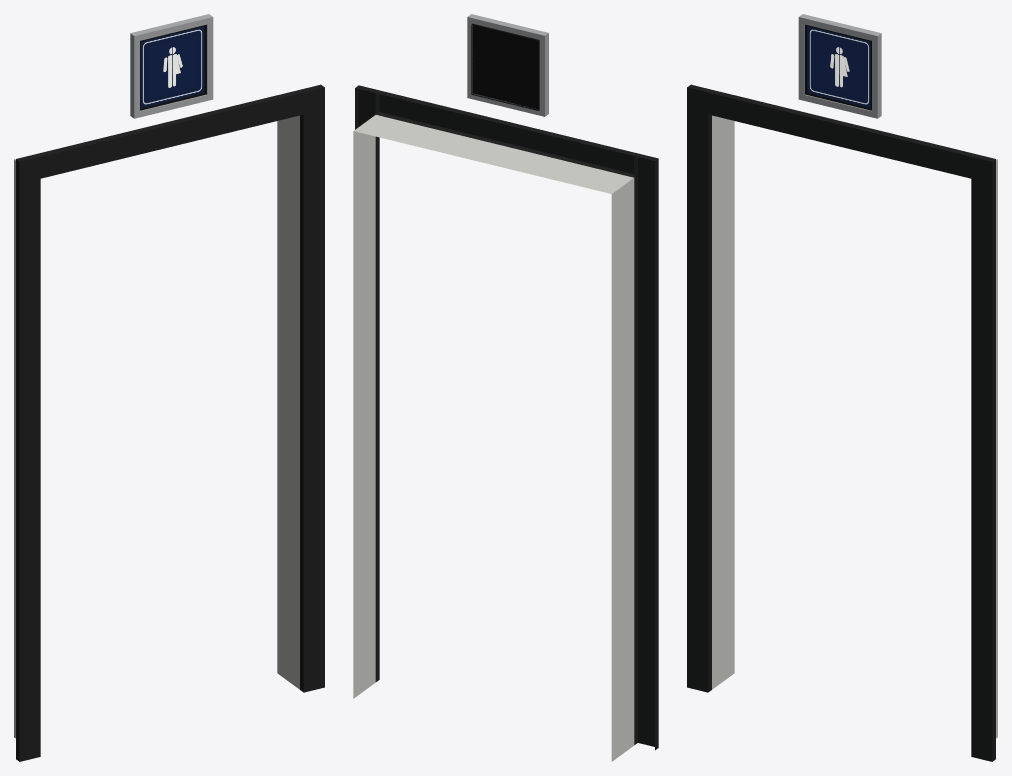
File: gteki_toilet_entrance_unisex.glb
3 renders of one model, left to right at view 1: azimuth 30°, elevation 25°; view 2: azimuth 150°, elevation 25°; view 3: azimuth 330°, elevation 25°, orthographic.
Visible parts, largest first — view 1: VIS_body; view 2: VIS_body; view 3: VIS_body.
Part boxes in pixels (box(x1,y1,x2,y2)): VIS_body: box(14, 14, 324, 761); VIS_body: box(353, 14, 658, 761); VIS_body: box(687, 14, 997, 761).
Size of what is drawn, in the model's own units: 1.16 by 2.54 by 0.185.
2 materials, 2 textured.
